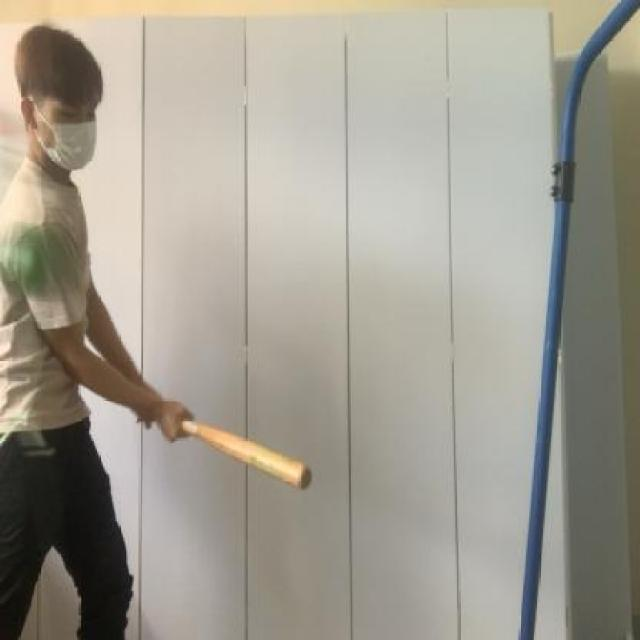baseball: (5, 219, 69, 292)
